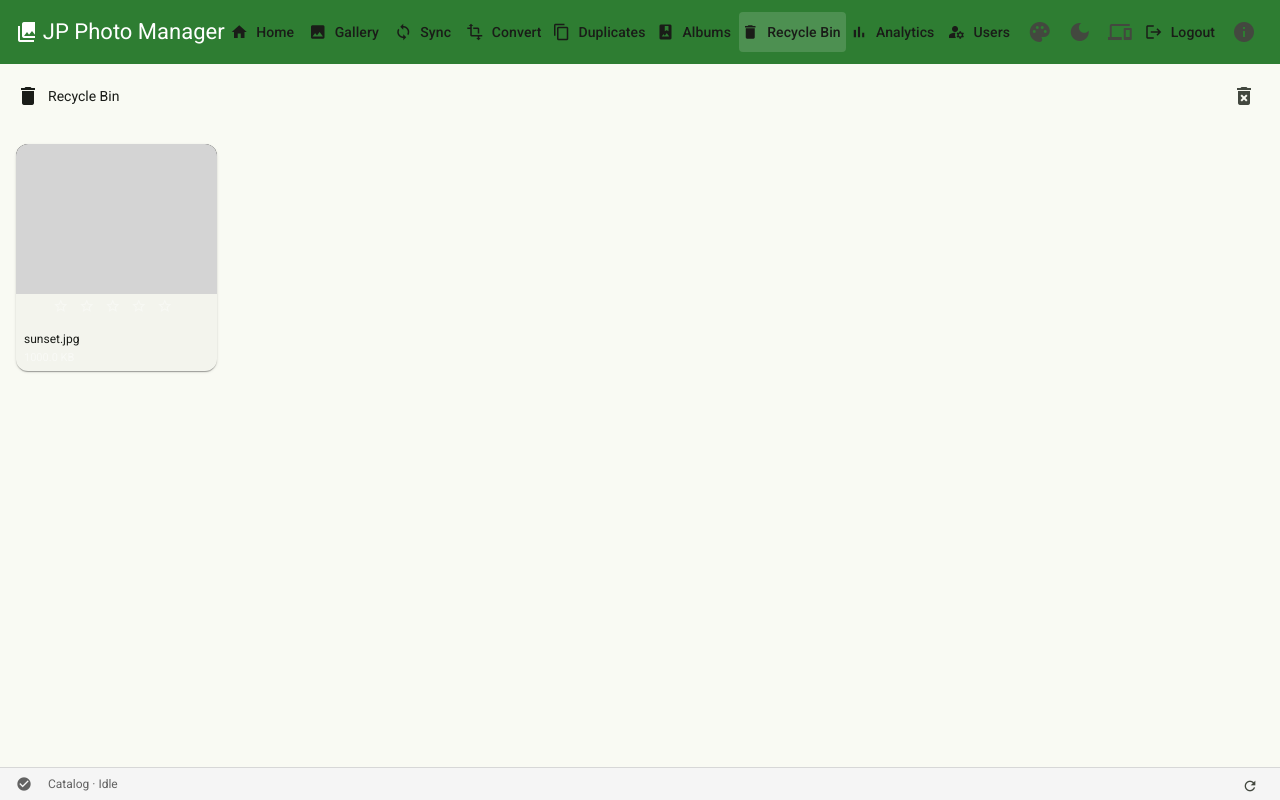
Test: Recycle bin › recycleBinPage_restoreClicked_showsSuccessSnackbar
Step 1. Click the element showing "sunset.jpg 1000.0 KB" → (117, 258), box [16,144,217,371]
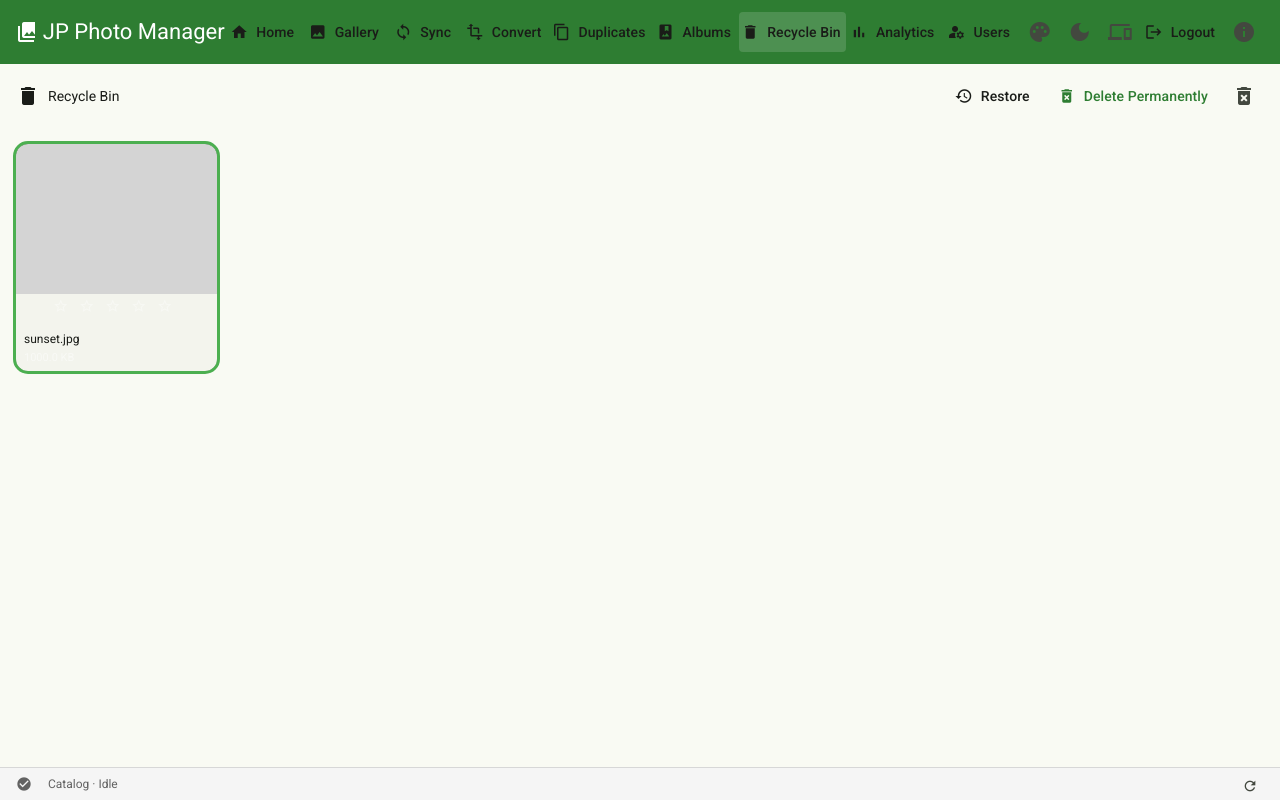
Step 2. Click the button "Restore" → (995, 96), box [943,76,1046,116]
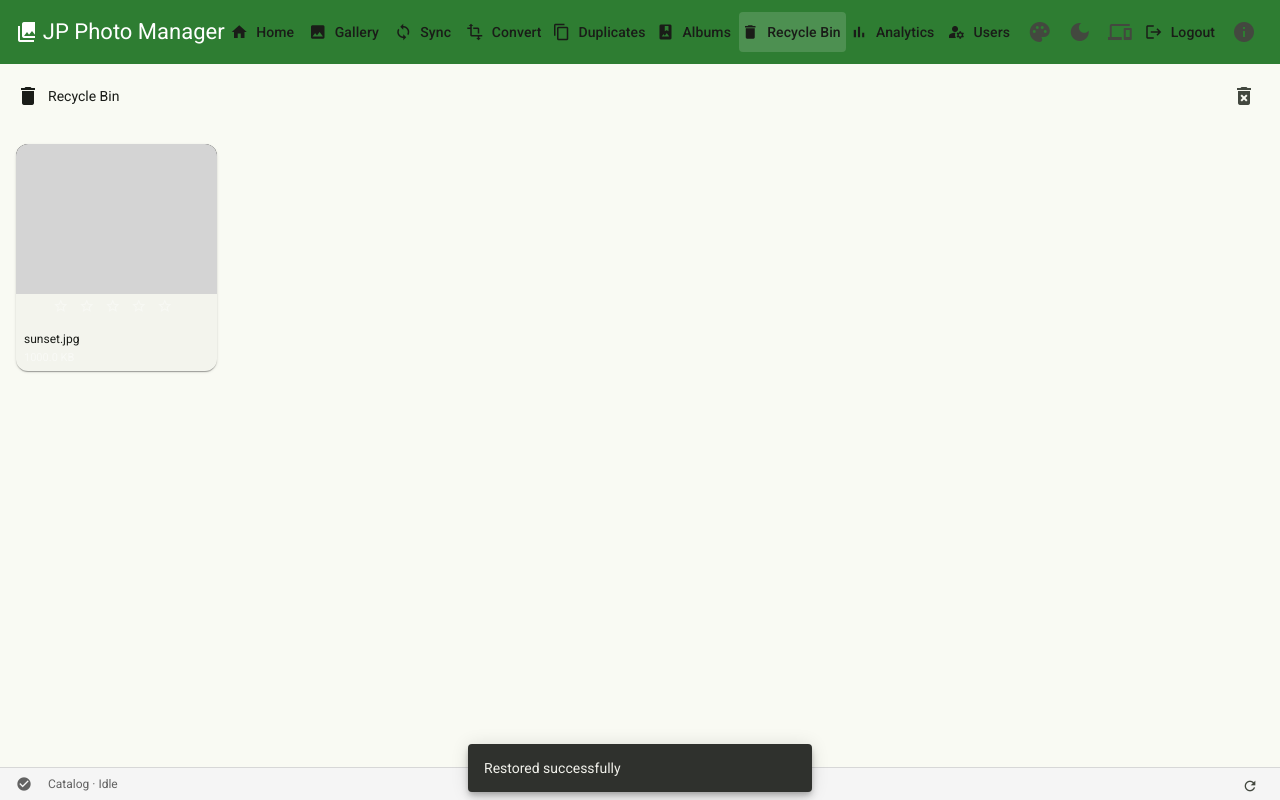
Expected: the text "Restored successfully" is shown, [484,760,621,776]
